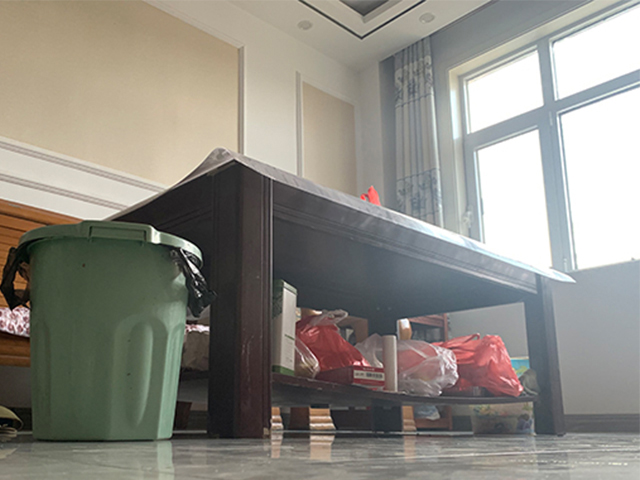curtain: (388, 34, 440, 229)
table: (106, 146, 578, 440)
trashcan: (18, 219, 205, 444)
